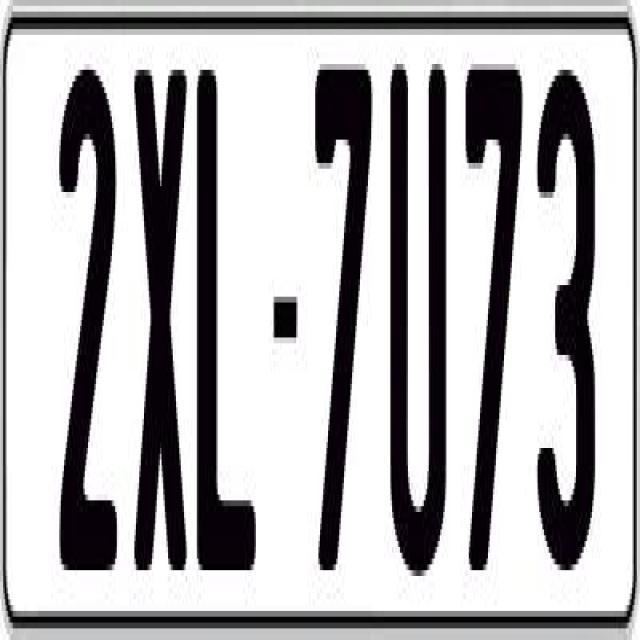2: (55, 64, 122, 582)
3: (532, 58, 596, 588)
7: (461, 52, 522, 588), (310, 64, 366, 570)
L: (193, 52, 260, 570)
U: (390, 46, 456, 594)
X: (134, 52, 190, 582)
